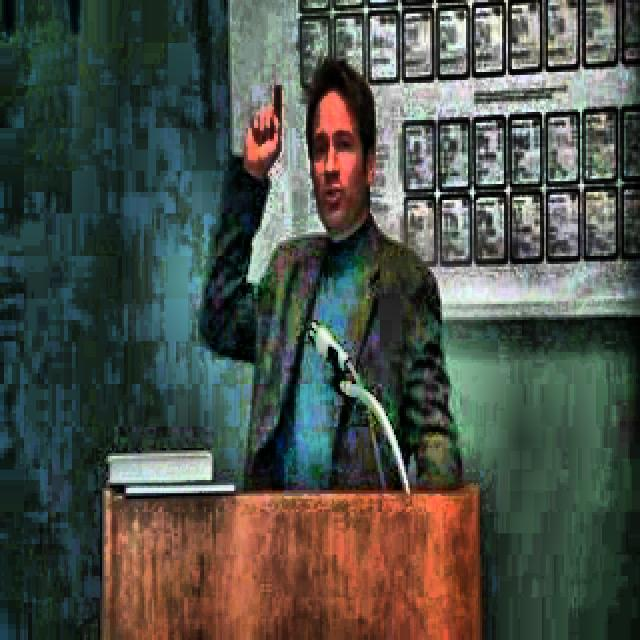T: (188, 58, 462, 494)
